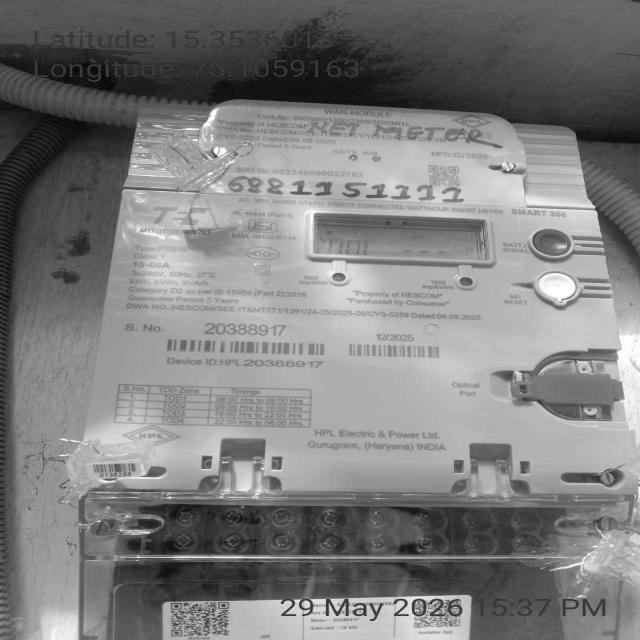meter: (104, 98, 638, 497)
